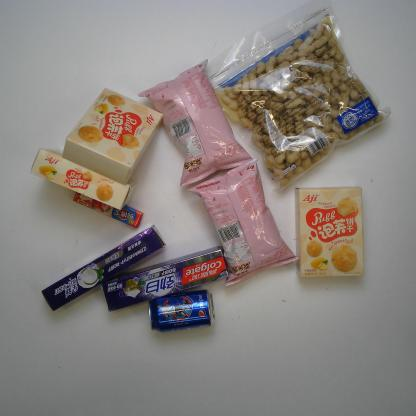Candy: (72, 184, 144, 231)
Dessert: (60, 84, 166, 187), (28, 145, 136, 215), (294, 183, 368, 282)
Dried Food: (190, 0, 392, 200)
Drink: (142, 286, 221, 334)
Personal Hygiene: (40, 224, 169, 314), (100, 243, 233, 313)
Puffed Food: (187, 159, 302, 293), (162, 60, 220, 176)
